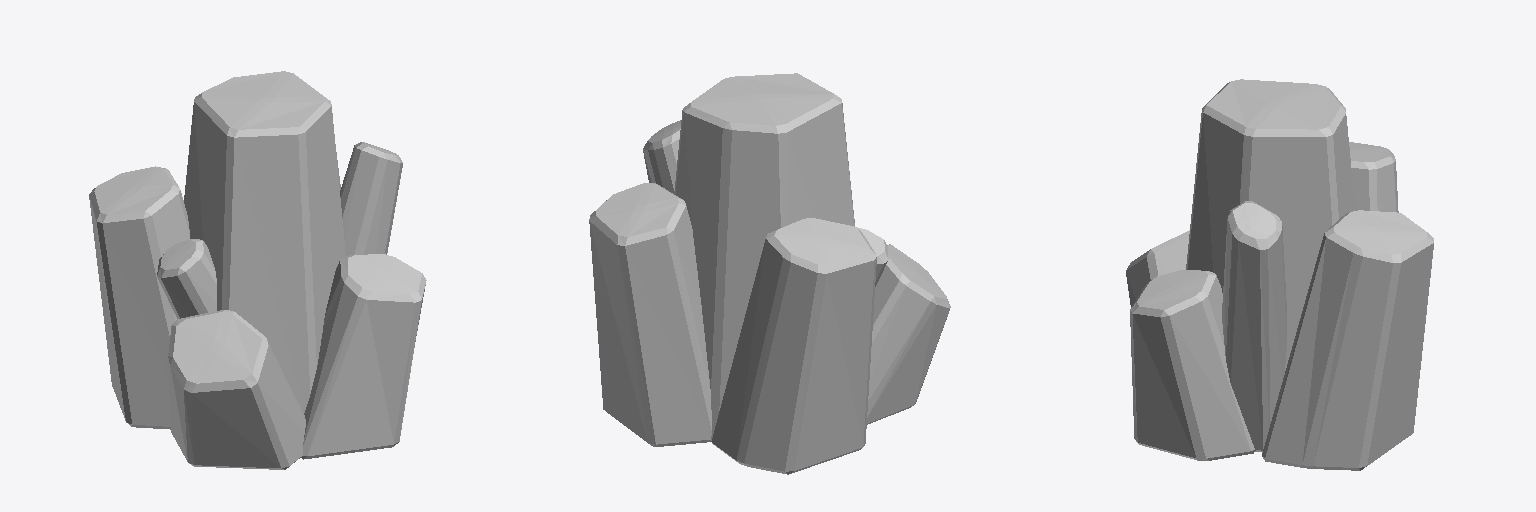
File: Crystal_Big.obj
3 views of the same model, side by side, from view 1: azimuth 30°, elevation 25°; view 2: azimuth 150°, elevation 25°; view 3: azimuth 270°, elevation 25° (orthographic).
Parts seen in each view (by area): view 1: Crystal_Big_Cube.111; view 2: Crystal_Big_Cube.111; view 3: Crystal_Big_Cube.111.
Boxes of the visible parts, x1=… form: Crystal_Big_Cube.111: x1=89, y1=71, x2=426, y2=469; Crystal_Big_Cube.111: x1=589, y1=73, x2=950, y2=474; Crystal_Big_Cube.111: x1=1126, y1=79, x2=1433, y2=470.
Bounding box in the file's own units: 1.48 × 1.65 × 1.48.